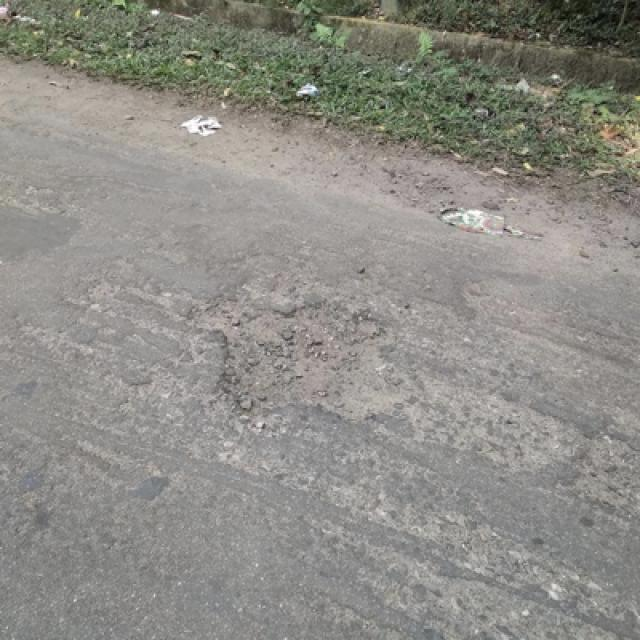objects: (188, 298, 586, 463)
